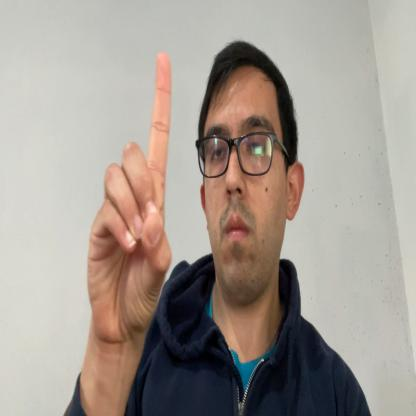D: (87, 52, 173, 346)
